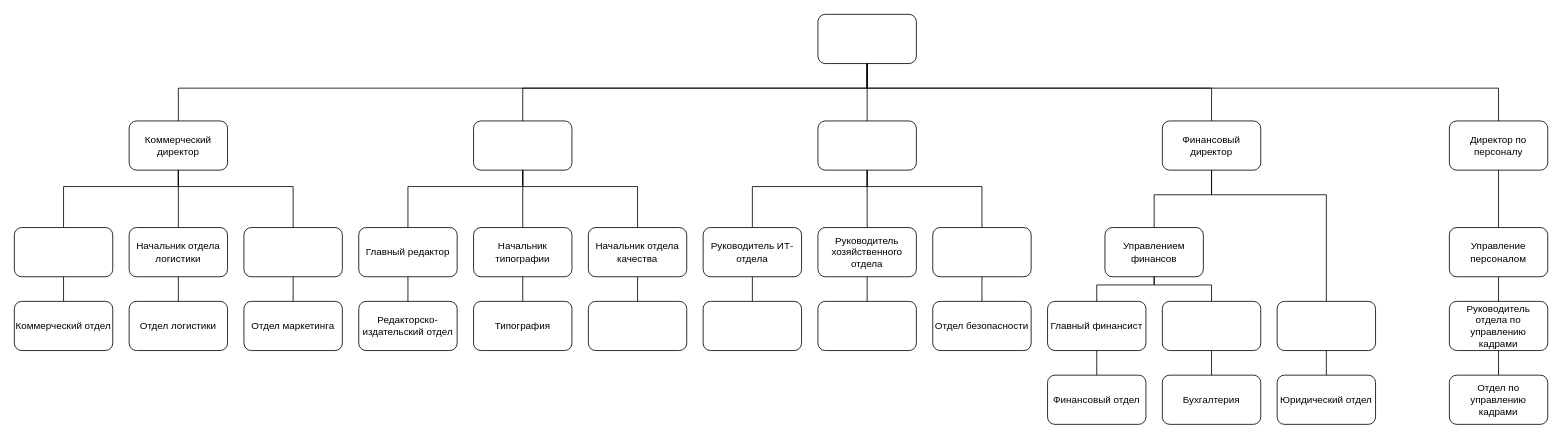
The diagram is 1562 pixels wide and 439 high, and some of its shapes have lost their labels. The box of each missing label's shape, as (x1, y1, x2, y2) in pixels:
Административно-хозяйственный отдел: (817, 301, 916, 351)
Генеральный директор: (817, 14, 916, 64)
Главный бухгалтер: (1162, 301, 1261, 351)
Главный маркетолог: (243, 227, 342, 277)
Главный юрист: (1276, 301, 1376, 351)
Директор по изданиям: (473, 120, 572, 170)
Исполнительный директор: (817, 120, 916, 170)
ИТ-отдел: (702, 301, 802, 351)
Начальник отдела безопастности: (932, 227, 1031, 277)
Начальник отдела продаж: (14, 227, 113, 277)
Отдел качества: (588, 301, 687, 351)
